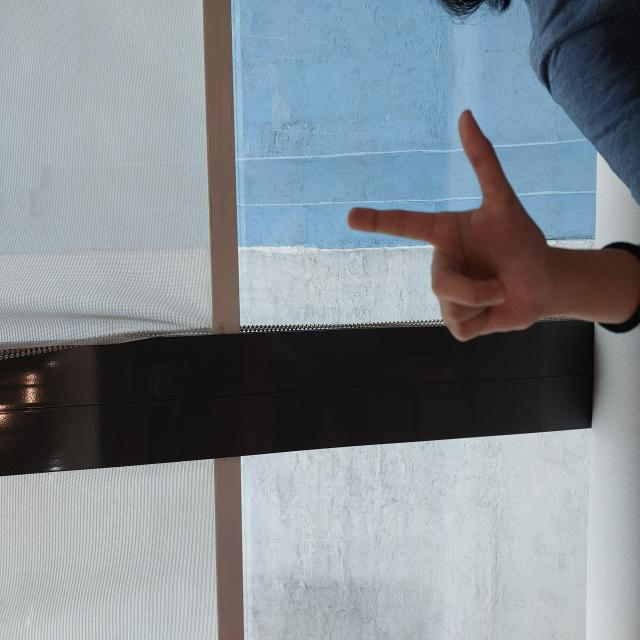L: (298, 346, 532, 541)
